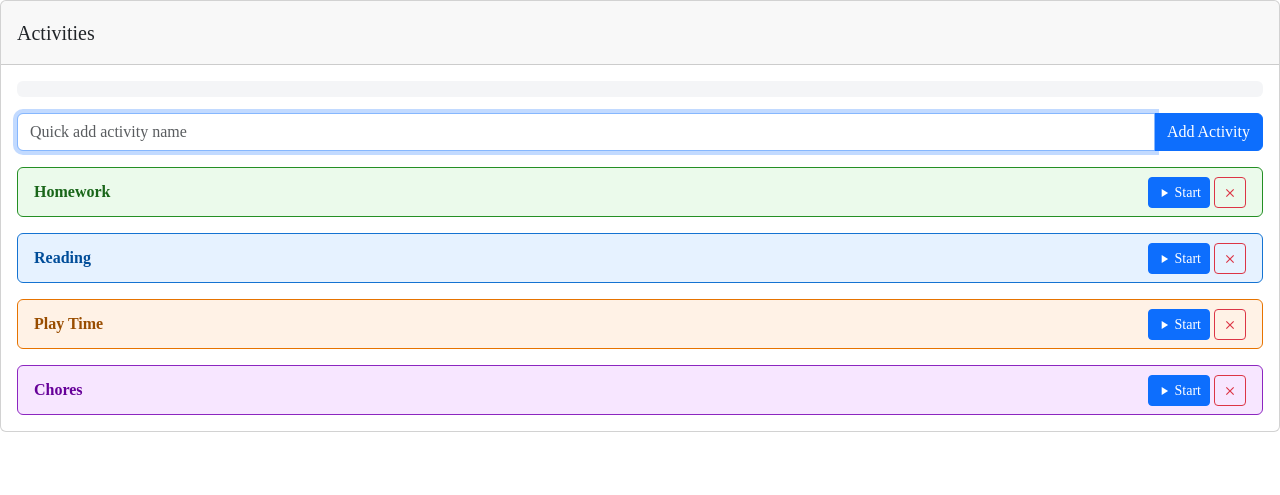
Test: ActivityManager - timer mode skip/hide and restore › hides removed activity in timer mode, shows in hidden list, and restores it back
Check: the heading "Homework" is shown, box [34, 183, 110, 200]
Click remove on Homework (session hide)
Click the button with test id "remove-activity-homework": (1230,192) [1214, 176, 1246, 208]
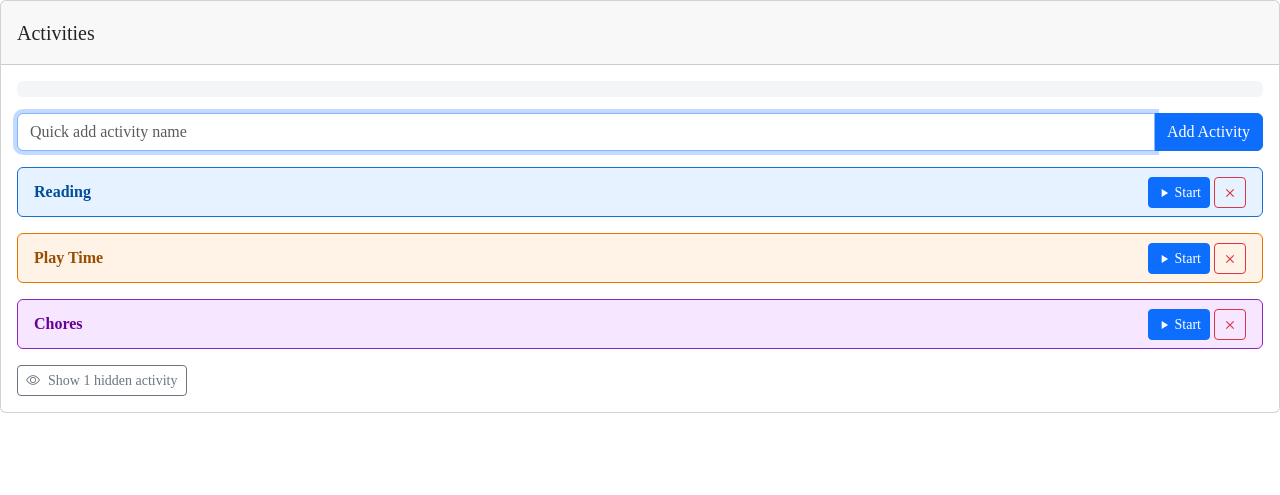
Check: the heading "Homework" is gone
Check: the button with test id "toggle-hidden-activities" reads "Show 1 hidden activity"
Open the hidden panel and verify Homework appears there
Click the button with test id "toggle-hidden-activities": (102,380) [17, 365, 186, 396]
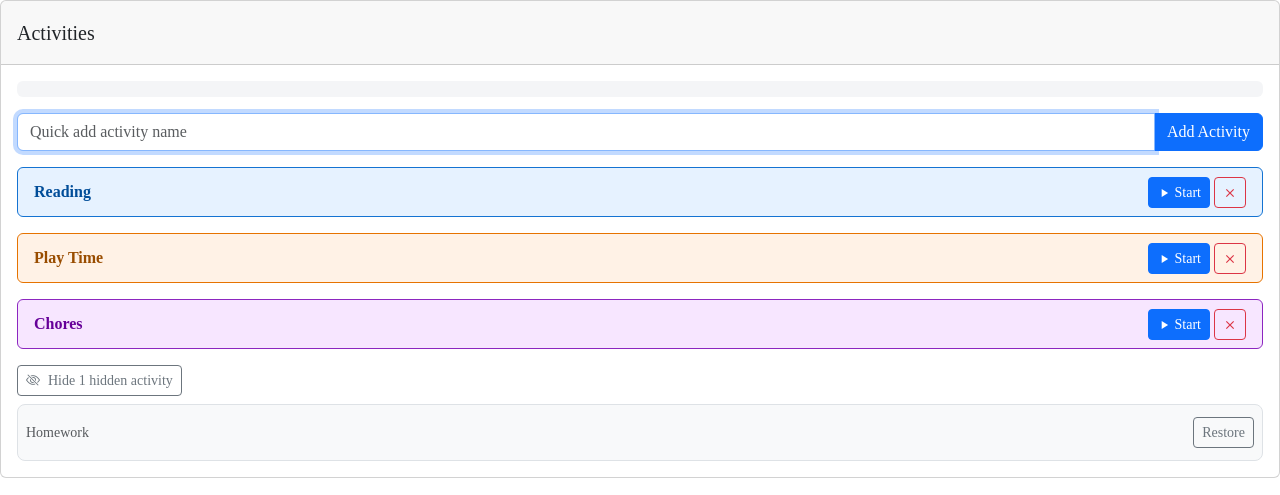
Check: the text "Homework" is shown, box [26, 422, 89, 443]
Restore Homework
Click the button with test id "restore-activity-homework": (1224,432) [1193, 417, 1254, 448]
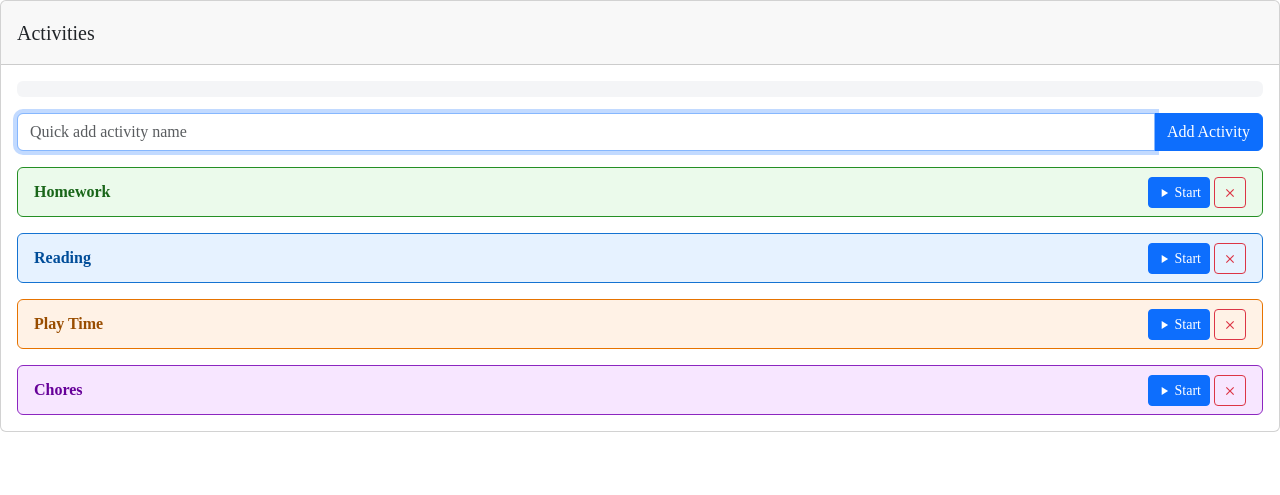
Check: the heading "Homework" is shown, box [34, 183, 110, 200]
Check: the button with test id "toggle-hidden-activities" is gone
